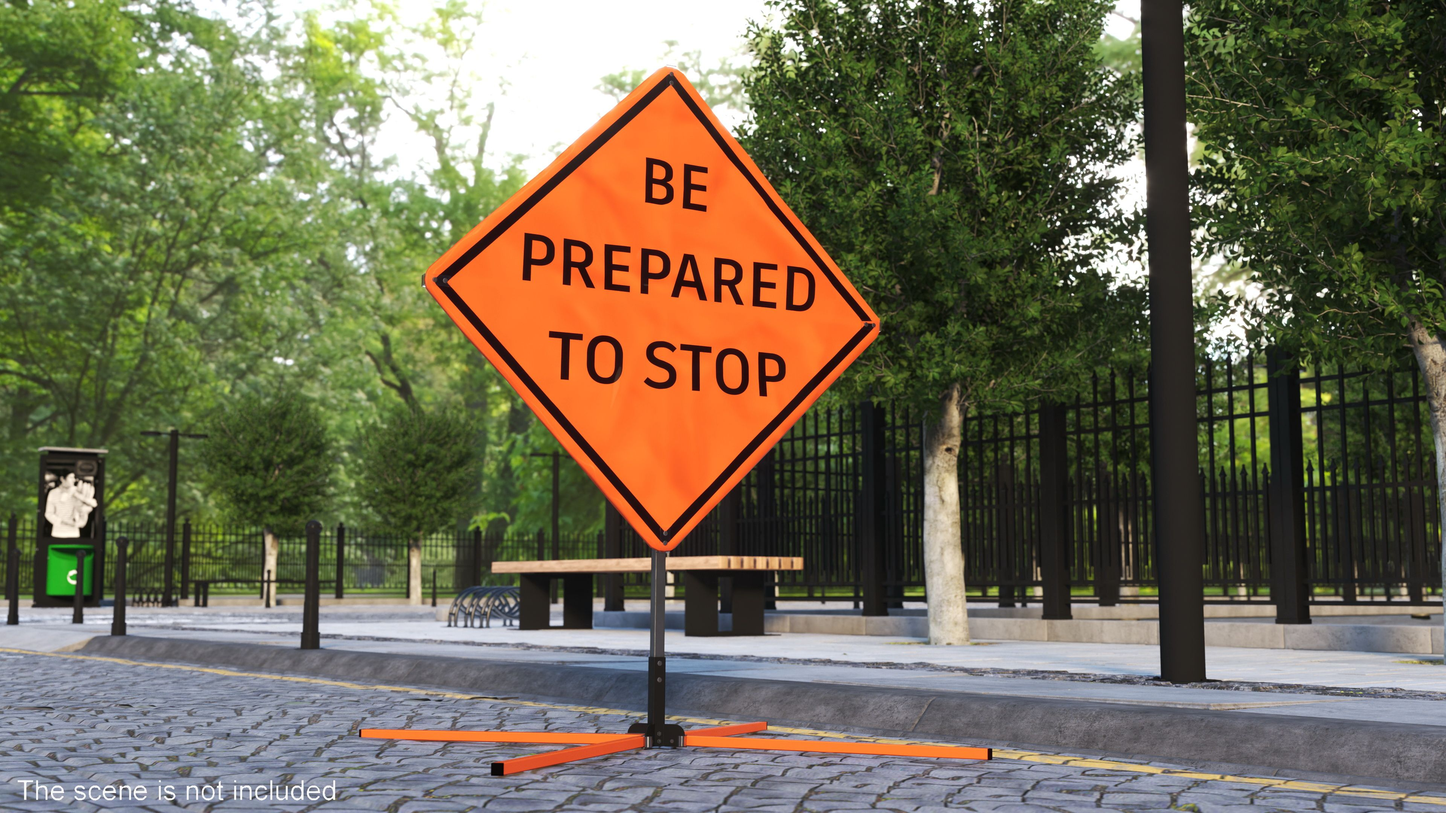Be Prepared to Stop: (457, 272, 740, 582)
